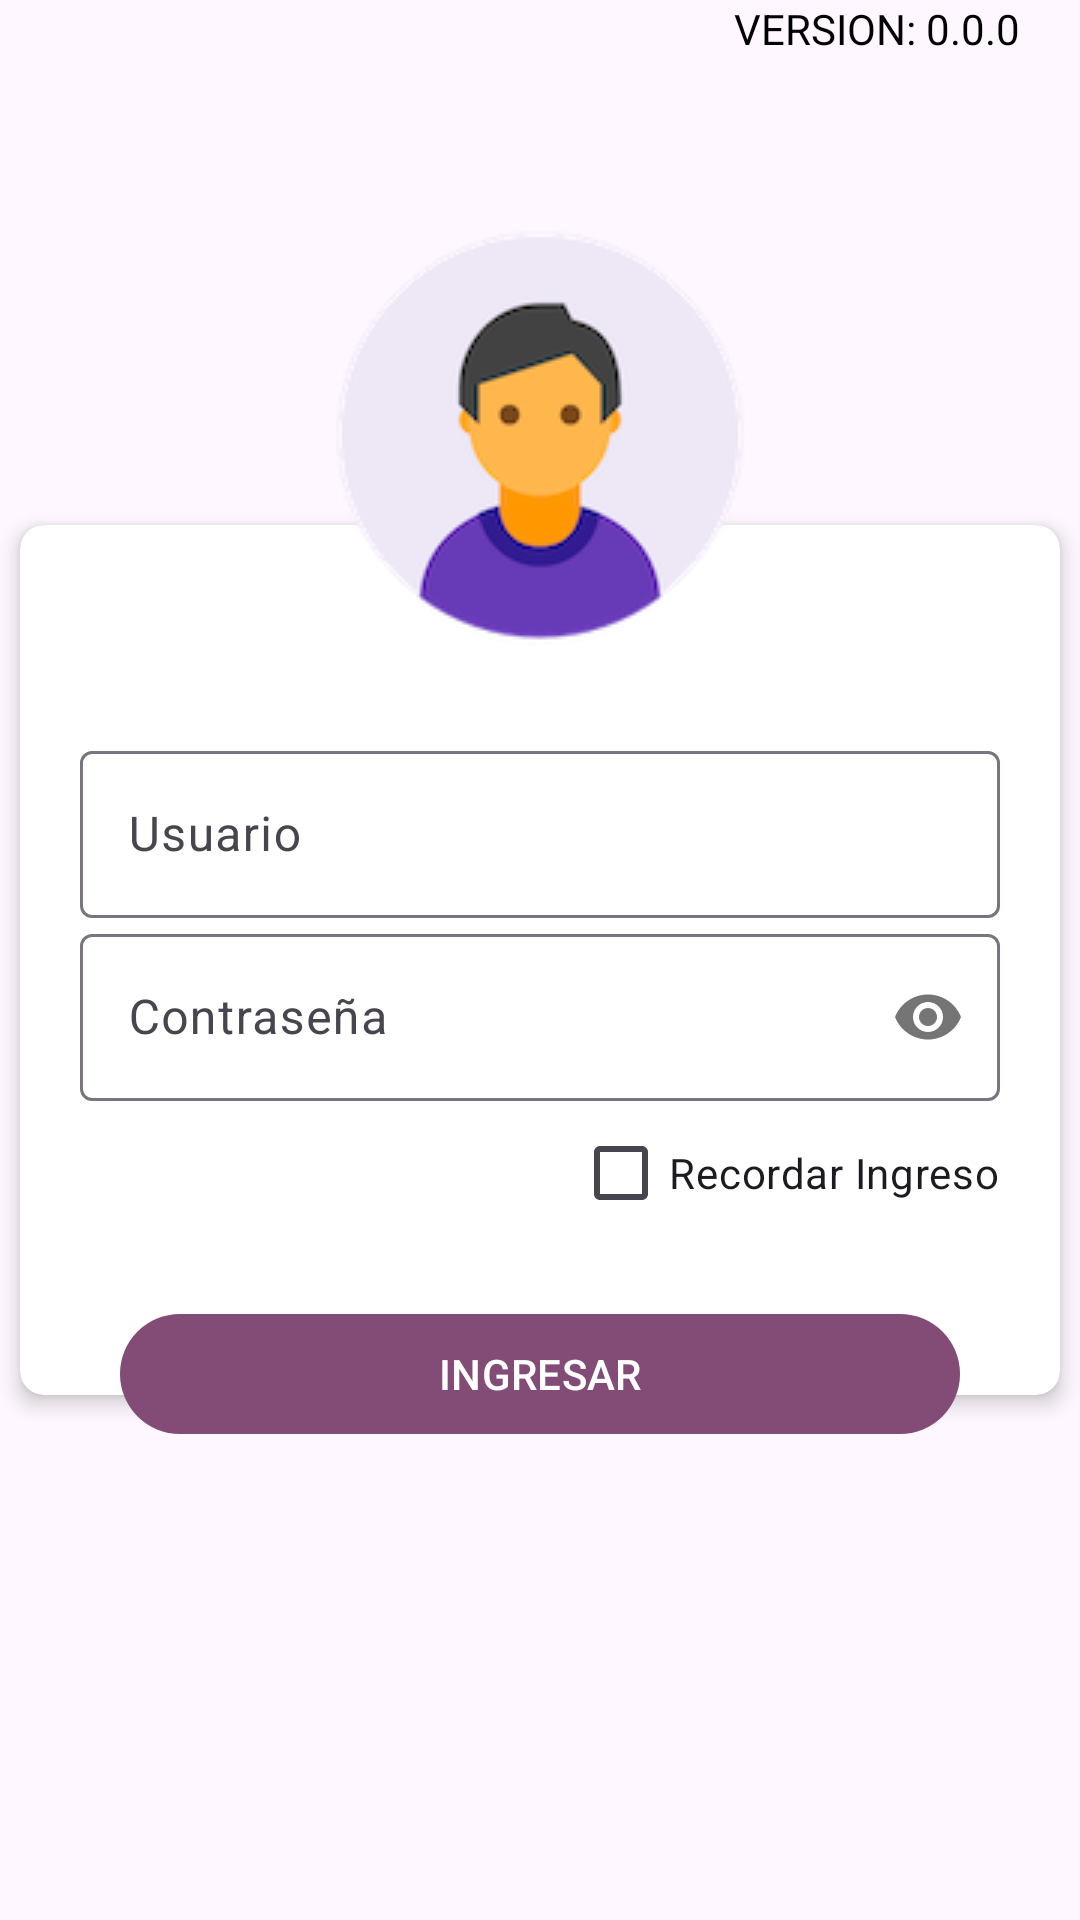

Icon click points for this 1080x1920 phone screenshot, format (x=x, y=y):
login: (x=540, y=470)
